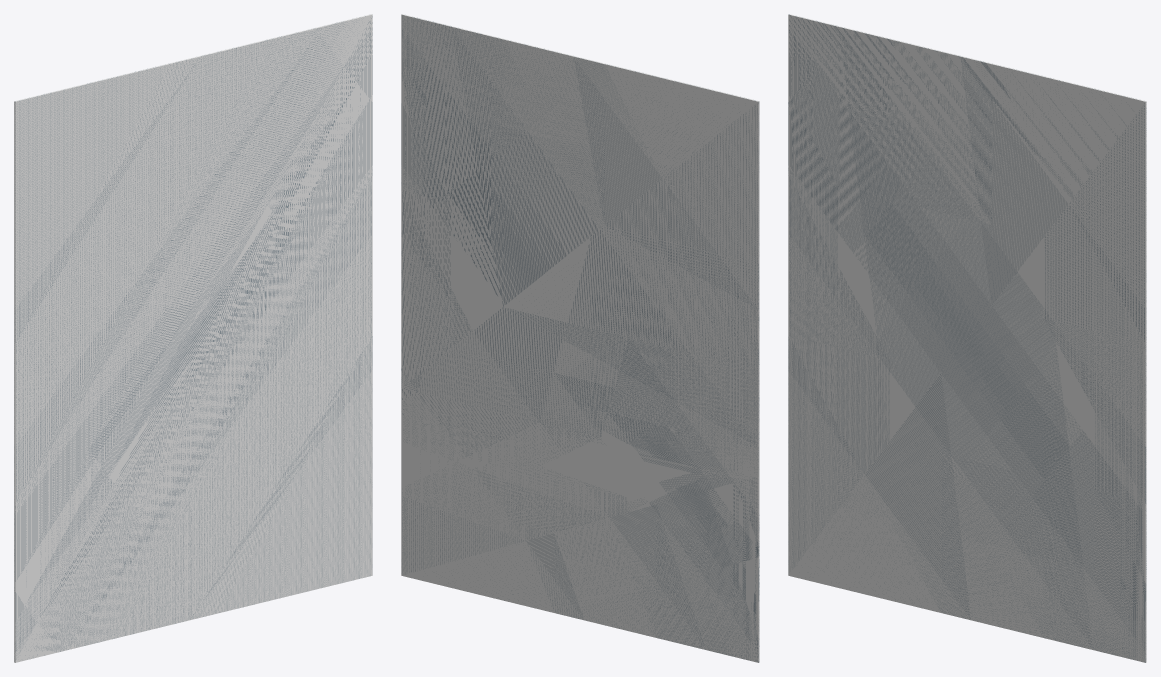
3 views of the same model, side by side, from view 1: azimuth 30°, elevation 25°; view 2: azimuth 150°, elevation 25°; view 3: azimuth 330°, elevation 25° (orthographic).
Visible parts, largest first — view 1: group_0; view 2: group_0; view 3: group_0.
Boxes of the visible parts, x1=… form: group_0: x1=14, y1=14, x2=372, y2=662; group_0: x1=401, y1=14, x2=759, y2=662; group_0: x1=788, y1=14, x2=1146, y2=662.
Bounding box in the file's own units: 11.81 × 0.0472 × 17.72.
